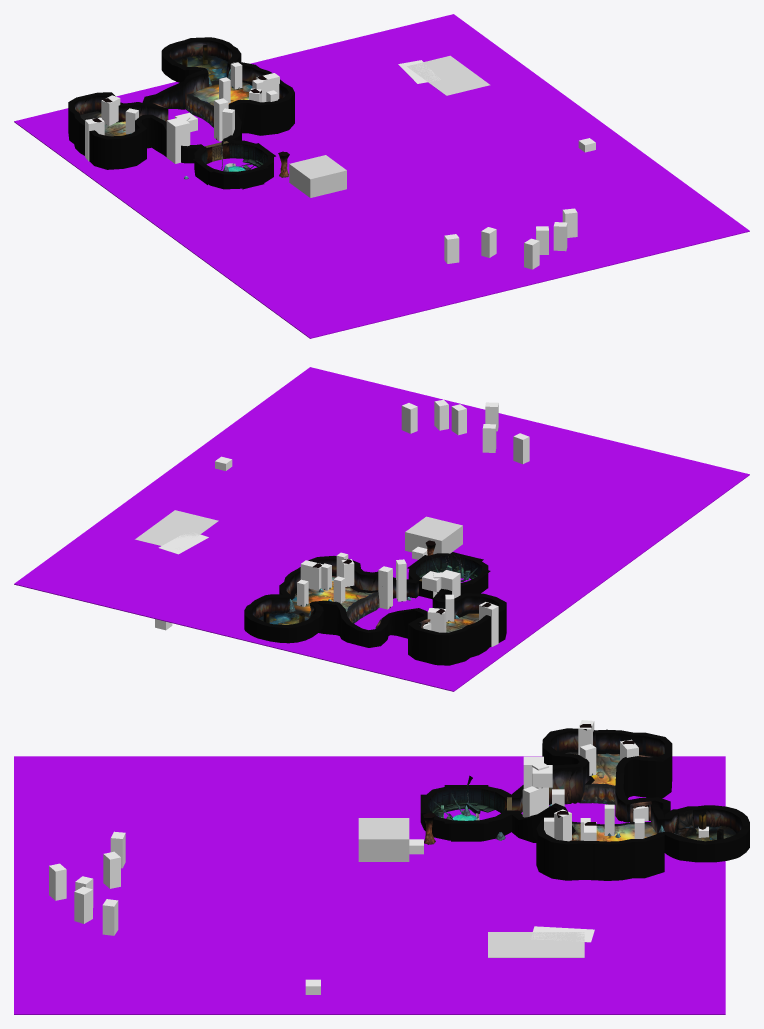
The picture shows the model from 3 angles, top to bottom: view 1: azimuth 30°, elevation 25°; view 2: azimuth 150°, elevation 25°; view 3: azimuth 270°, elevation 25°; orthographic projection. The views are drawn at different scales.
Parts seen in each view (by area): view 1: NavGrid_CheckArea, Dun031_Wall001, Dan1_ido_Wall, Cube (9), Cube, Dun_011_WarpRoom_002_wall, Dun031_Grond002, Cube (20), Dan1_ido_Ground, Dun_Side_Wall001; view 2: NavGrid_CheckArea, Dun031_Wall001, Dan1_ido_Wall, Cube (9), Cube, Dun_011_WarpRoom_002_wall, Dun031_Grond002, Dun_Side_Wall001, Cube (16), Cube (1), Dan1_ido_Ground; view 3: NavGrid_CheckArea, Dun031_Wall001, Dan1_ido_Wall, Cube (×2), Dun_011_WarpRoom_002_wall, Cube (9), Dun031_Grond002, Dan1_ido_Ground, Dun_Side_Wall001, Dun_011_Door_002, Cube (3), Cube (4) (+3 smaller).
Part boxes in pixels (<box>): NavGrid_CheckArea: <box>14,14,749,338</box>; Dun031_Wall001: <box>68,61,294,169</box>; Dan1_ido_Wall: <box>161,37,241,82</box>; Cube (9): <box>289,155,346,197</box>; Cube: <box>407,55,490,95</box>; Dun_011_WarpRoom_002_wall: <box>194,140,273,189</box>; Dun031_Grond002: <box>80,81,248,136</box>; Cube (20): <box>166,118,189,163</box>; Dan1_ido_Ground: <box>175,45,227,82</box>; Dun_Side_Wall001: <box>185,93,213,127</box>; NavGrid_CheckArea: <box>14,367,749,691</box>; Dun031_Wall001: <box>279,556,506,665</box>; Dan1_ido_Wall: <box>244,594,323,643</box>; Cube (9): <box>405,516,462,554</box>; Cube: <box>135,510,218,545</box>; Dun_011_WarpRoom_002_wall: <box>408,553,488,594</box>; Dun031_Grond002: <box>292,576,478,632</box>; Dun_Side_Wall001: <box>346,592,379,623</box>; Cube (16): <box>378,566,392,609</box>; Cube (1): <box>158,533,208,554</box>; Dan1_ido_Ground: <box>258,608,315,624</box>; NavGrid_CheckArea: <box>14,756,725,1014</box>; Dun031_Wall001: <box>512,728,672,880</box>; Dan1_ido_Wall: <box>664,805,749,862</box>; Cube (×2): <box>74,886,584,957</box>; Dun_011_WarpRoom_002_wall: <box>420,785,511,841</box>; Cube (9): <box>358,818,409,861</box>; Dun031_Grond002: <box>565,752,656,841</box>; Dan1_ido_Ground: <box>674,809,736,841</box>; Dun_Side_Wall001: <box>572,783,650,826</box>; Dun_011_Door_002: <box>444,820,488,841</box>; Cube (3): <box>49,863,66,900</box>; Cube (4): <box>103,851,120,888</box>.
Size of what is drawn, in the model's own units: 60 by 8.94 by 72.4.
